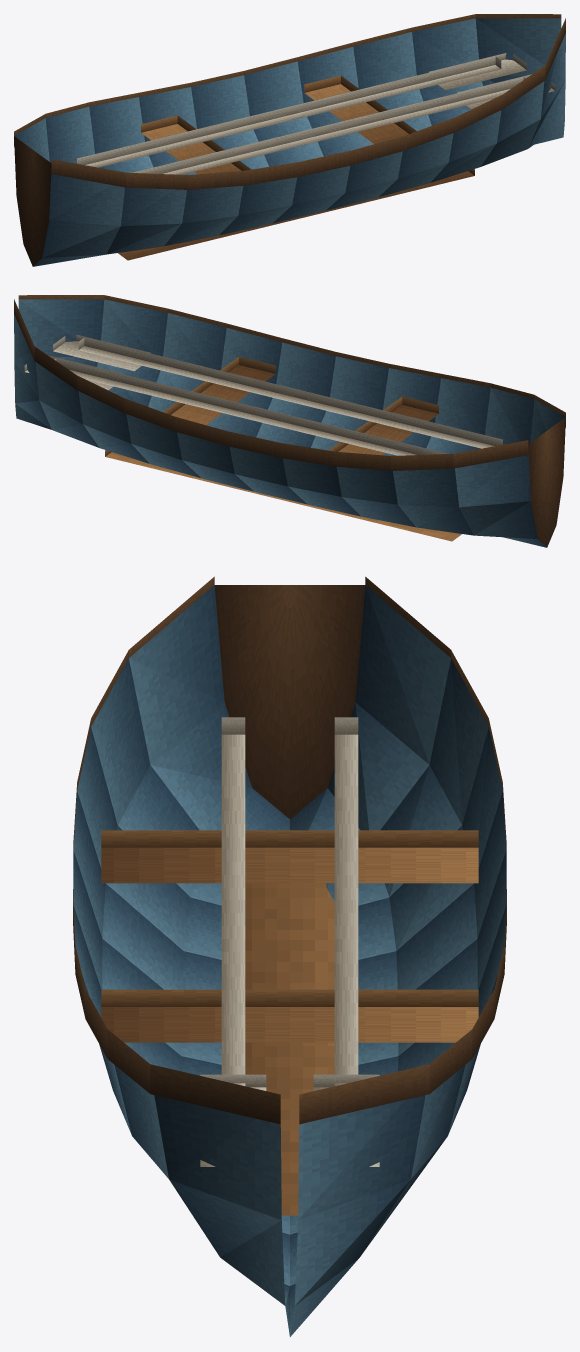
The model's file is rowboat.glb.
3 views of the same model, one above another, from view 1: azimuth 30°, elevation 25°; view 2: azimuth 150°, elevation 25°; view 3: azimuth 270°, elevation 25° (orthographic). The views are drawn at different scales.
Parts seen in each view (by area): view 1: rowboat; view 2: rowboat; view 3: rowboat.
Boxes of the visible parts, x1,y1,x2,y2 form: rowboat: (14, 14, 565, 266); rowboat: (14, 295, 565, 547); rowboat: (73, 576, 506, 1336).
Size of the model in its own units: 2.6 by 0.5716 by 0.92.
1 material, 1 textured.
